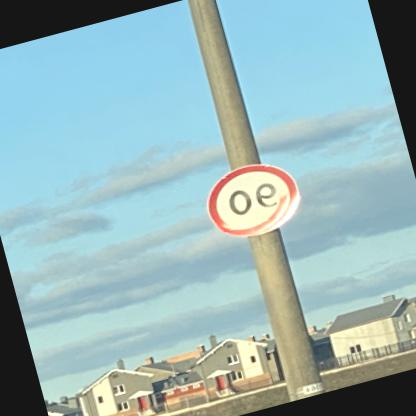speedlimit: (201, 152, 309, 242)
